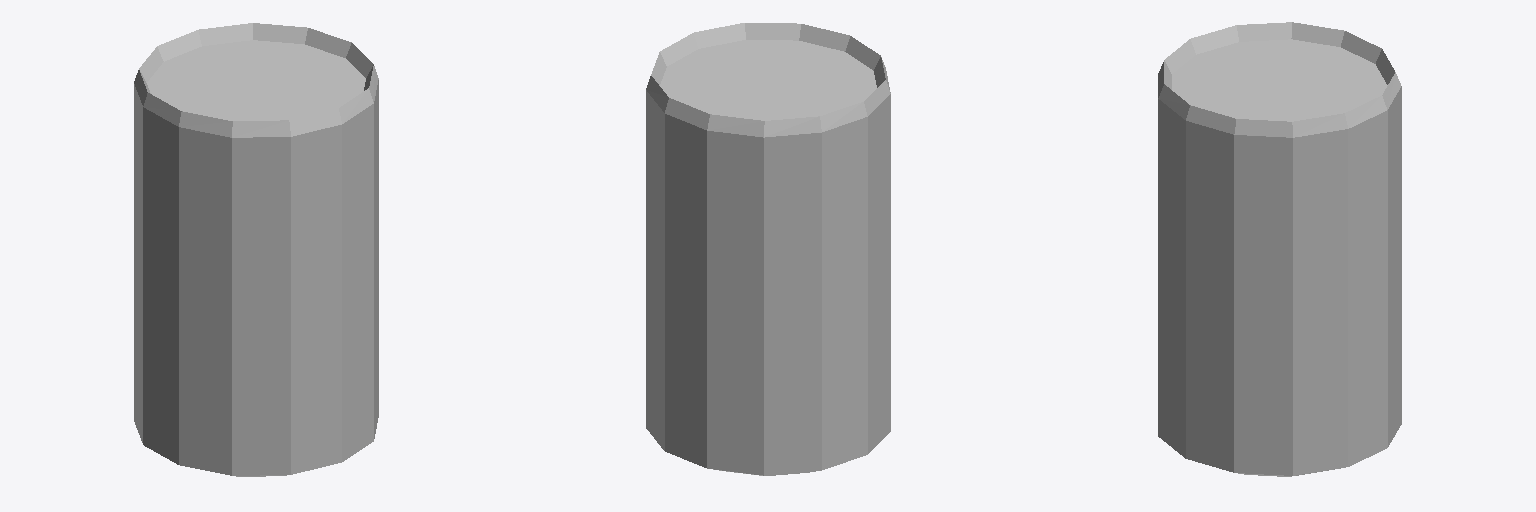
File: Latinha.obj
3 renders of one model, left to right at view 1: azimuth 30°, elevation 25°; view 2: azimuth 150°, elevation 25°; view 3: azimuth 270°, elevation 25°, orthographic.
Visible parts, largest first — view 1: Cylinder; view 2: Cylinder; view 3: Cylinder.
Part boxes in pixels (bbox=[...]): Cylinder: bbox=[134, 23, 378, 476]; Cylinder: bbox=[646, 23, 890, 475]; Cylinder: bbox=[1158, 22, 1401, 476].
Bounding box in the file's own units: 1.99 × 3.29 × 1.97.